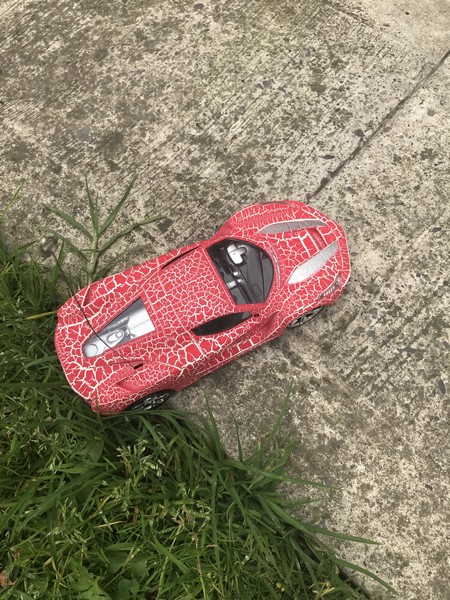RC: (53, 198, 354, 419)
